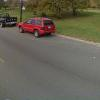Car: (16, 10, 60, 40)
